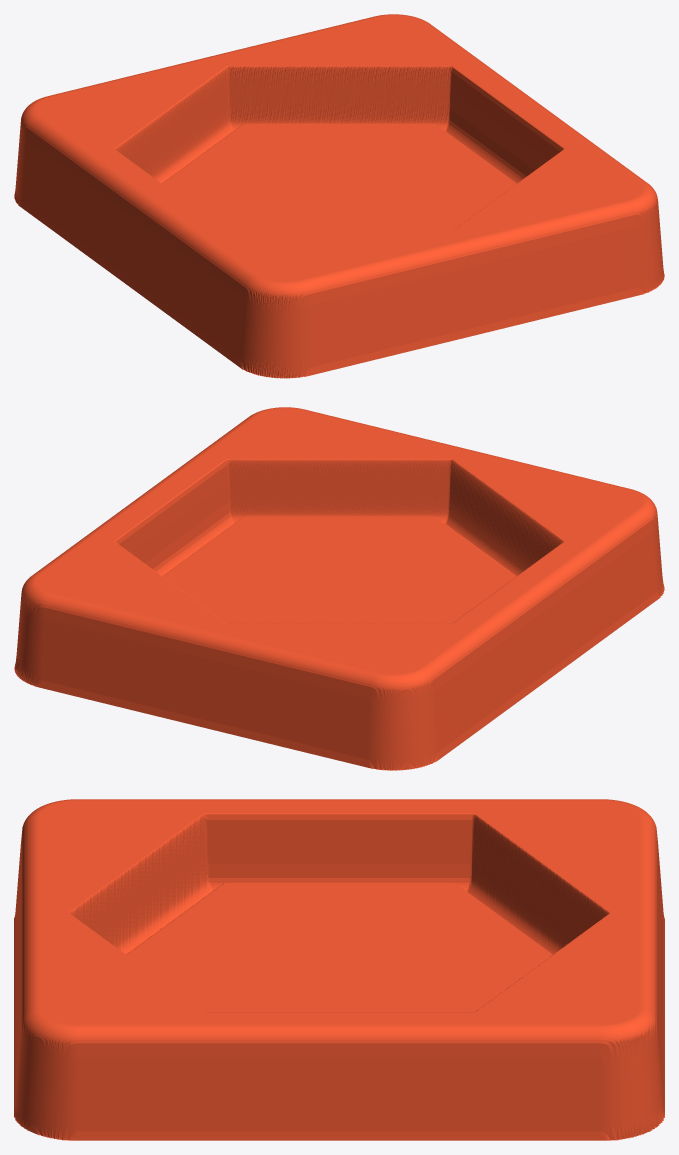
Rendered from mold.glb.
3 views of the same model, one above another, from view 1: azimuth 30°, elevation 25°; view 2: azimuth 150°, elevation 25°; view 3: azimuth 270°, elevation 25° (orthographic). The views are drawn at different scales.
Parts seen in each view (by area): view 1: geometry_0; view 2: geometry_0; view 3: geometry_0.
Boxes of the visible parts, box(x1,y1,x2,y2) form: geometry_0: box(14, 14, 664, 378); geometry_0: box(14, 407, 664, 770); geometry_0: box(14, 799, 664, 1140).
Bounding box in the file's own units: 0.0824 × 0.0165 × 0.0924.
